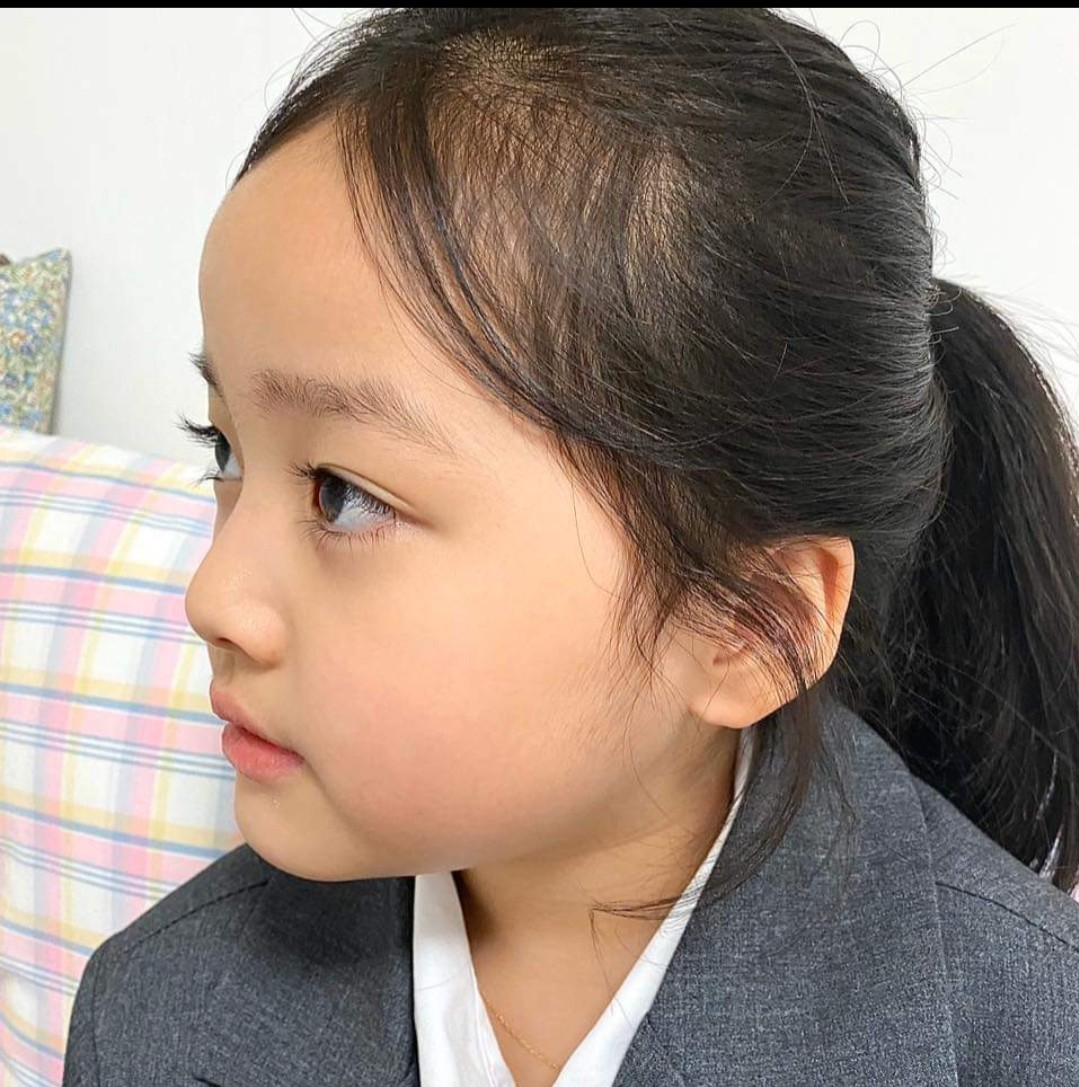people: (67, 12, 1057, 1087)
